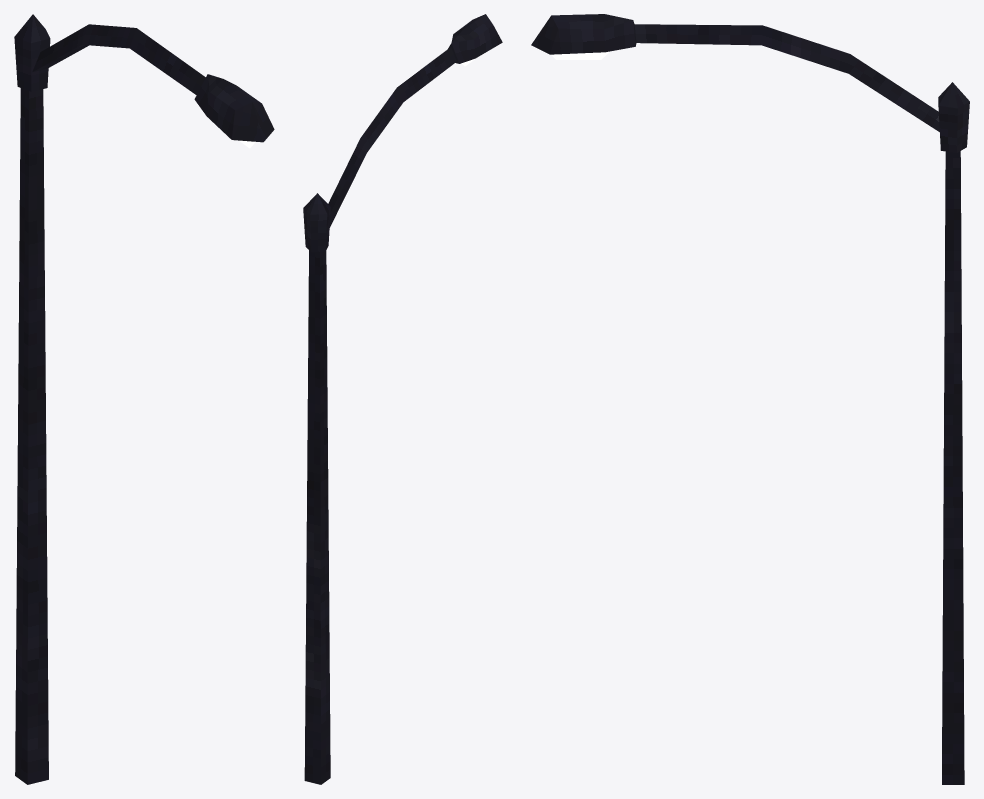
The model's file is low_polyps1_style_street_lamp.glb.
3 renders of one model, left to right at view 1: azimuth 30°, elevation 25°; view 2: azimuth 150°, elevation 25°; view 3: azimuth 270°, elevation 25°, orthographic. The views are drawn at different scales.
Visible parts, largest first — view 1: Street-Light_0; view 2: Street-Light_0; view 3: Street-Light_0.
Boxes of the visible parts, x1,y1,x2,y2 form: Street-Light_0: (14, 14, 274, 784); Street-Light_0: (303, 14, 502, 784); Street-Light_0: (531, 14, 969, 784).
Size of the model in its own units: 0.3188 by 5.96 by 3.1.
2 materials, 1 textured.
